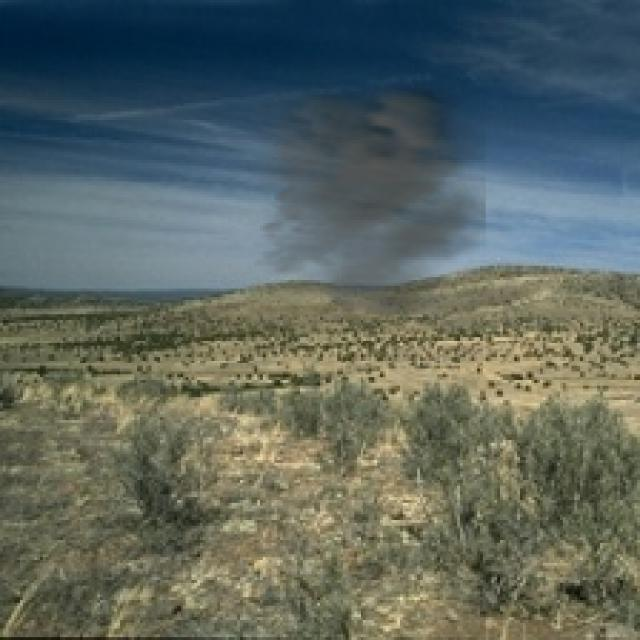Smoke: (228, 72, 486, 314)
